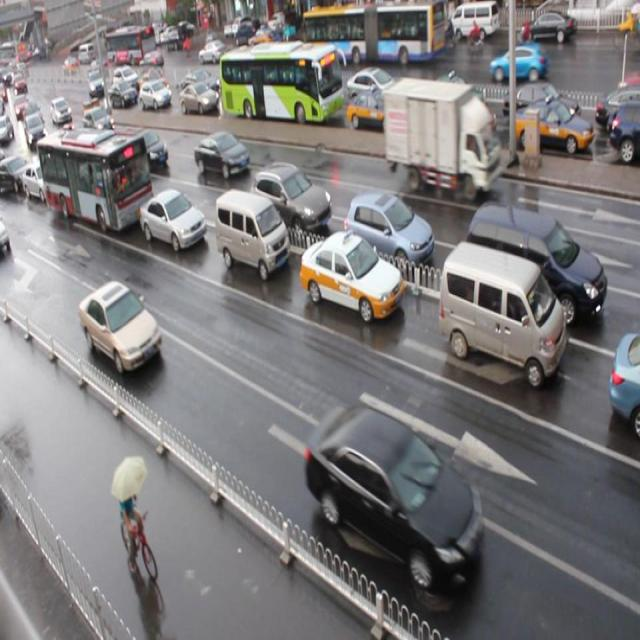bus: (382, 75, 499, 200)
car: (307, 400, 485, 593), (299, 228, 402, 322), (79, 280, 164, 378), (343, 194, 434, 278), (251, 162, 330, 240), (514, 99, 593, 158), (138, 187, 206, 252), (425, 92, 496, 143), (503, 83, 578, 128), (608, 331, 640, 435), (420, 76, 486, 121), (345, 86, 406, 133), (196, 133, 250, 181), (343, 67, 400, 110), (608, 99, 640, 160), (594, 92, 640, 134), (21, 158, 60, 203), (129, 129, 169, 168), (0, 153, 32, 192), (180, 83, 219, 114), (232, 69, 267, 103), (182, 68, 222, 97), (84, 107, 114, 143), (139, 80, 172, 112), (110, 81, 136, 110), (114, 65, 140, 94), (139, 68, 164, 93)
truck: (465, 198, 607, 332), (438, 240, 565, 388), (213, 187, 289, 280)
van: (37, 126, 154, 235), (216, 42, 339, 124)
